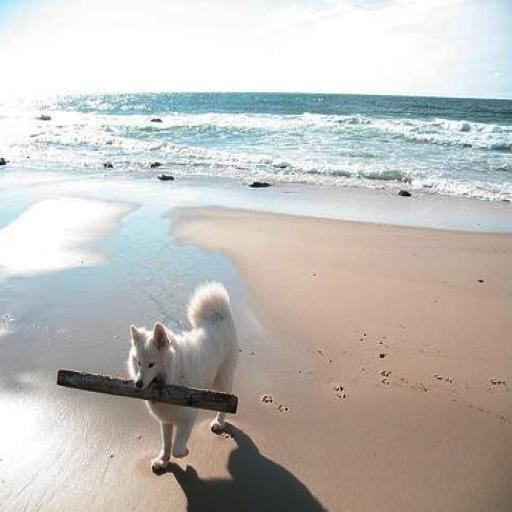dog_face: (124, 319, 178, 404)
